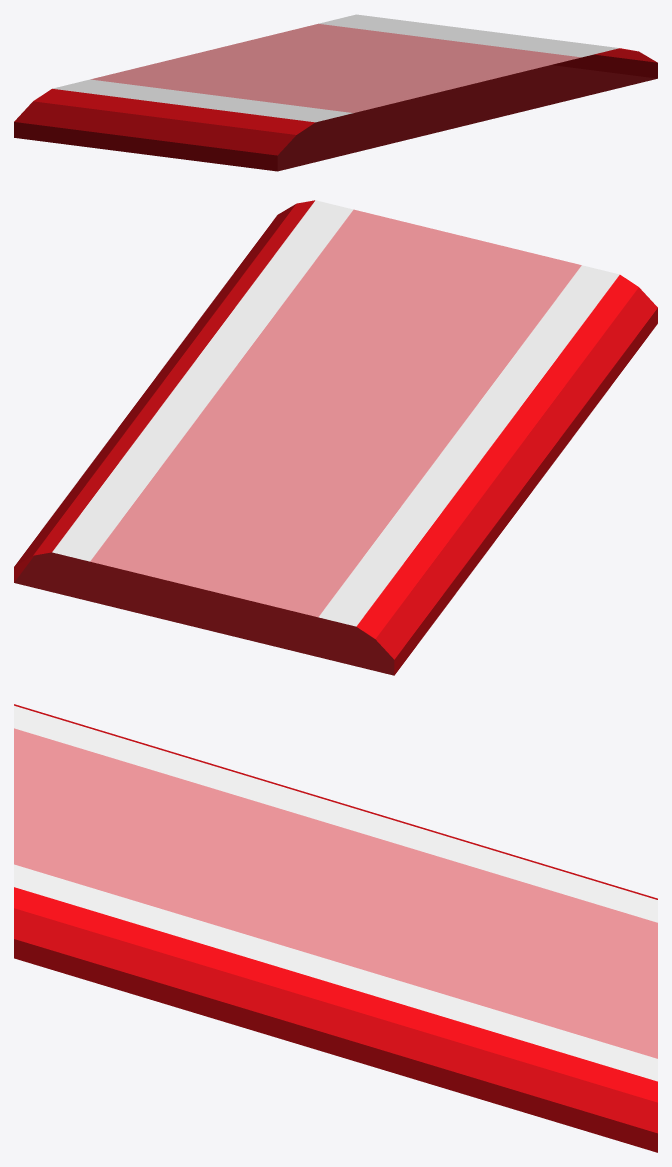
The model's file is inc2.fbx.
3 views of the same model, one above another, from view 1: azimuth 30°, elevation 25°; view 2: azimuth 150°, elevation 25°; view 3: azimuth 270°, elevation 25° (orthographic). The views are drawn at different scales.
Visible parts, largest first — view 1: Incline2; view 2: Incline2; view 3: Incline2.
Boxes of the visible parts, x1,y1,x2,y2 form: Incline2: [14, 14, 657, 171]; Incline2: [14, 200, 657, 675]; Incline2: [14, 704, 657, 1152].
Size of the model in its own units: 10 by 5 by 12.
